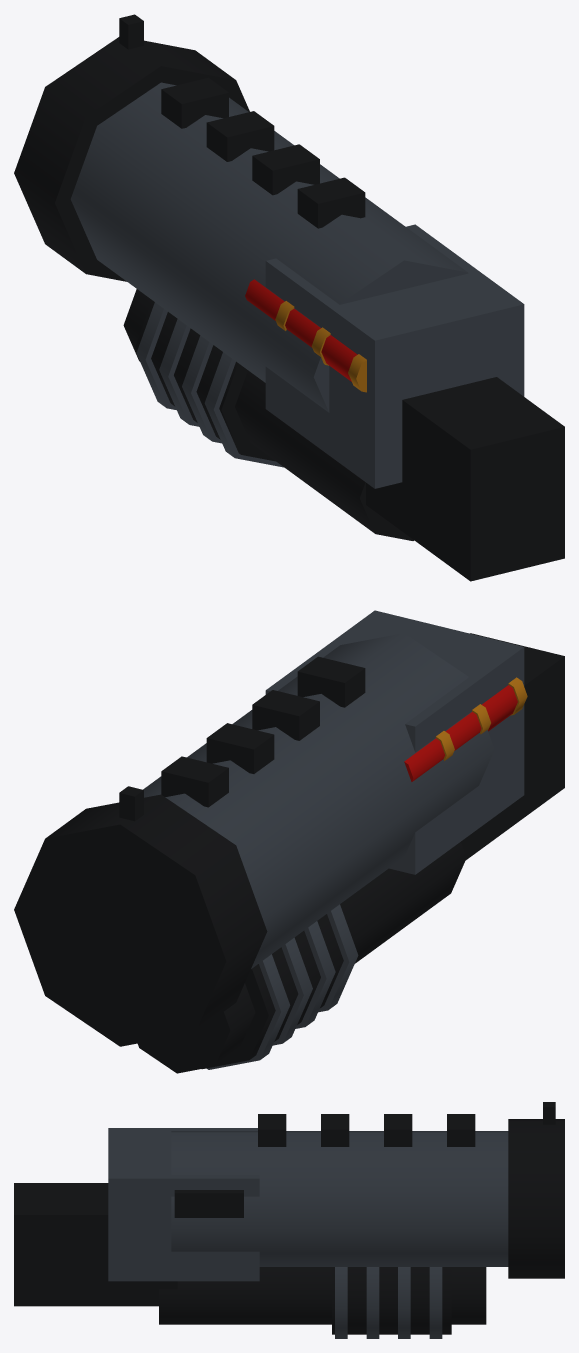
3 views of the same model, one above another, from view 1: azimuth 30°, elevation 25°; view 2: azimuth 150°, elevation 25°; view 3: azimuth 270°, elevation 25° (orthographic). The views are drawn at different scales.
Size of the model in its own units: 0.27 by 0.407 by 0.875.
